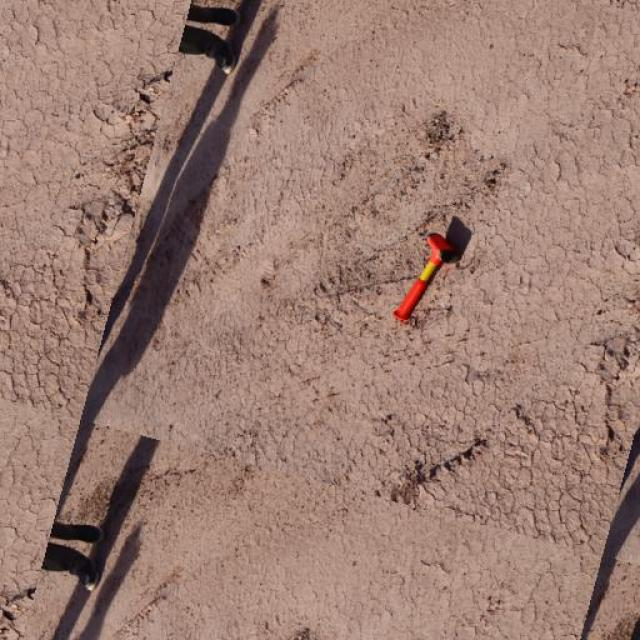mallet: (391, 232, 461, 322)
